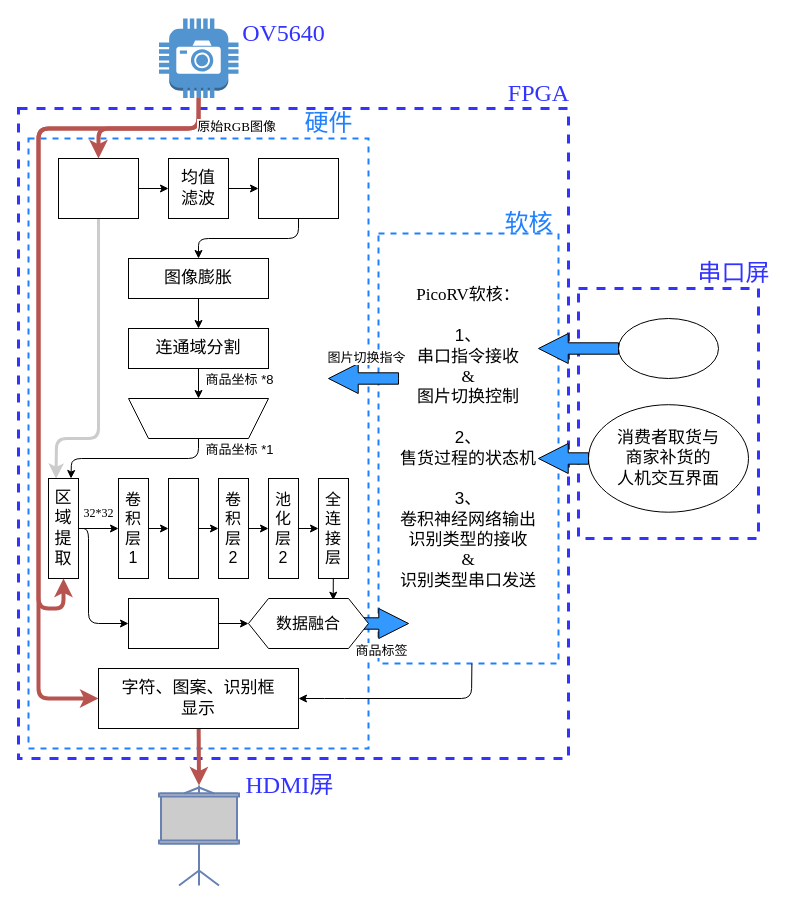
The diagram is 796 pixels wide and 903 high, and some of its shapes have lost their labels. The shapes that lost their labels are listed below. From the top down, each one's centre as x and y in pixels, then its label:
point 98,188: 灰度化 处理
point 298,188: 二值化 处理
point 668,348: 图片切换 控制
point 198,418: 8 -> 1选择器
point 183,528: 池化层 1
point 173,623: 色域判断
